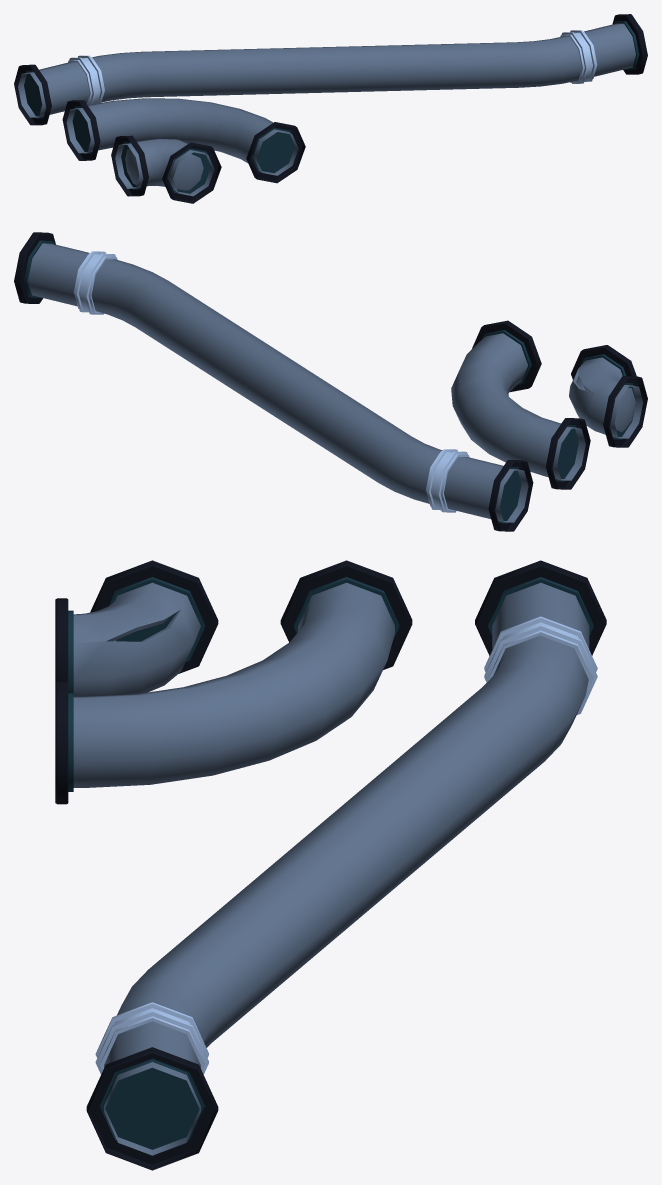
Rendered from PipeComplexSmall_A_20.fbx.
The picture shows the model from 3 angles, top to bottom: view 1: azimuth 30°, elevation 25°; view 2: azimuth 150°, elevation 25°; view 3: azimuth 270°, elevation 25°; orthographic projection. The views are drawn at different scales.
Visible parts, largest first — view 1: PipeComplexSmall_A_20.001; view 2: PipeComplexSmall_A_20.001; view 3: PipeComplexSmall_A_20.001.
Part boxes in pixels (x1,y1,x2,y2): PipeComplexSmall_A_20.001: (14,14,647,203); PipeComplexSmall_A_20.001: (14,232,647,531); PipeComplexSmall_A_20.001: (55,560,606,1170).
Bounding box in the file's own units: 1.2 × 0.1356 × 0.5678.
